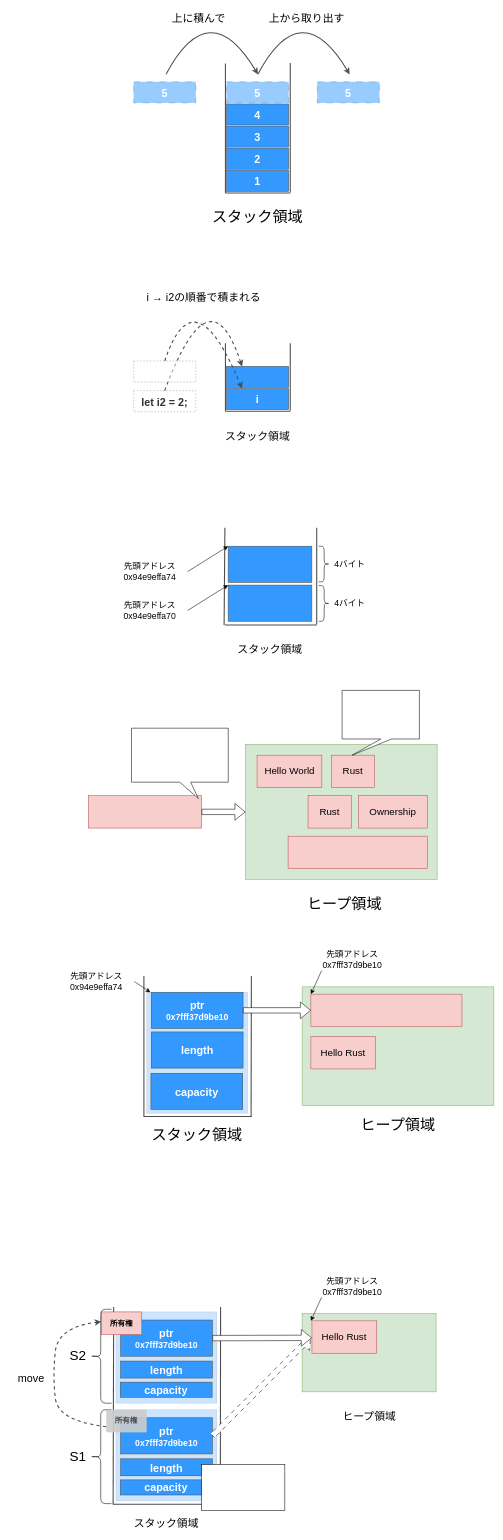
This 503x1540 diagram has some shape labels left out. Each missing label, with the centre of its shape:
15バイトのデータ置きたいけど、どこが空いてるかなー: point (179, 763)
Hello World, I am Rustacean!: point (386, 1010)
i (0b01): point (270, 603)
i2: point (257, 376)
i2 (0b10): point (270, 564)
let i = 1;: point (164, 371)
move後、s1には アクセス不可: point (243, 1487)
The Rust Programming Language: point (357, 852)
こんにちは: point (145, 811)
不要になったら、 データ消さなきゃ: point (380, 722)
